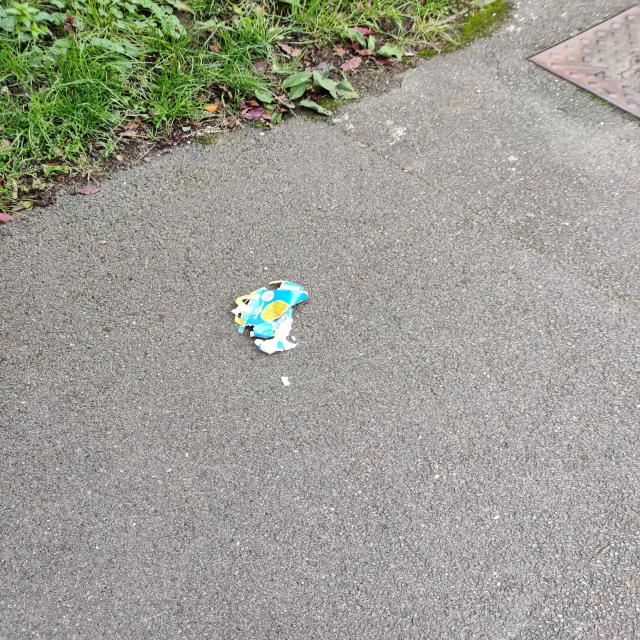litter: (226, 279, 314, 356)
